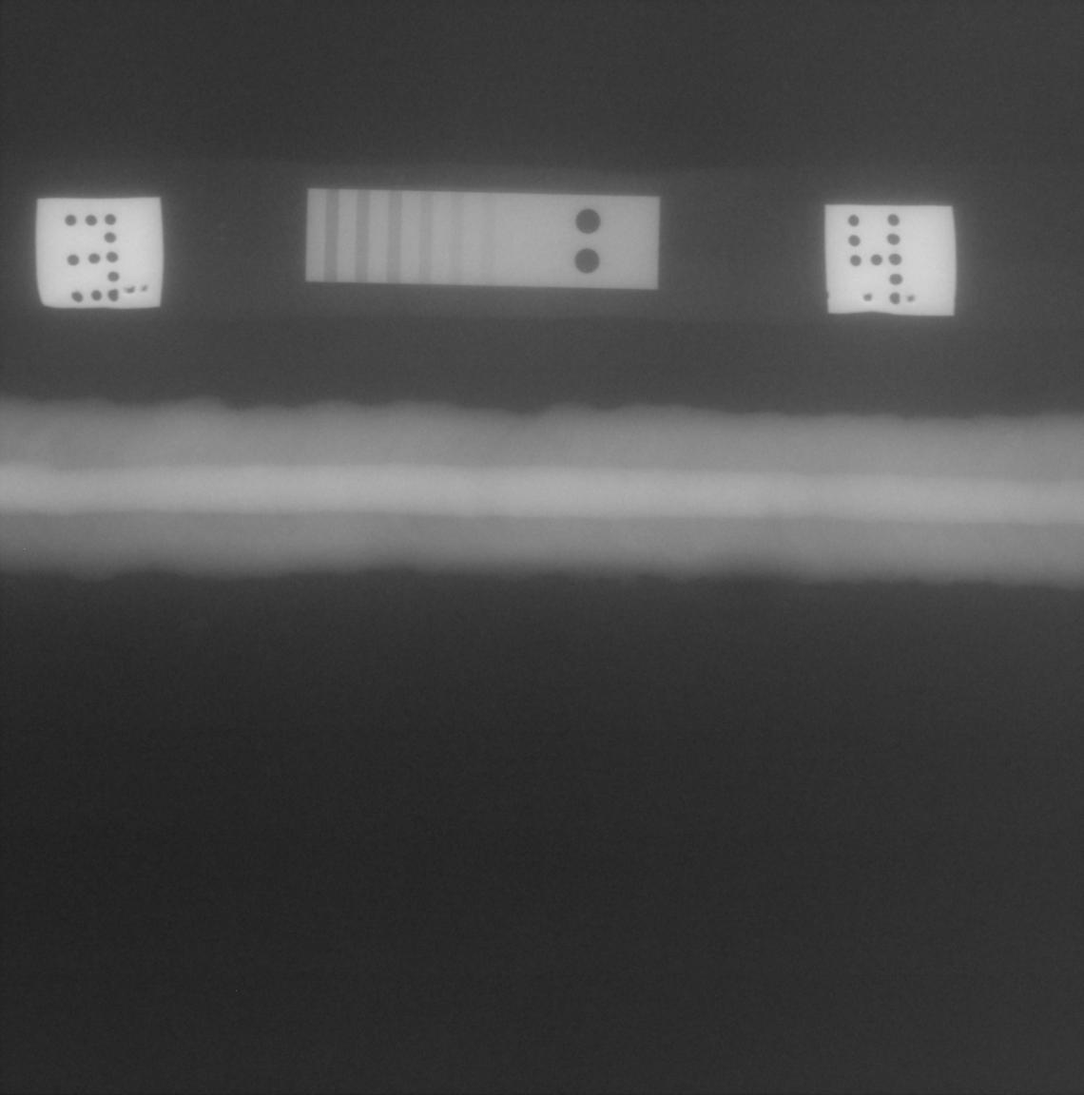Reference Standard 2: (306, 189, 659, 289)
